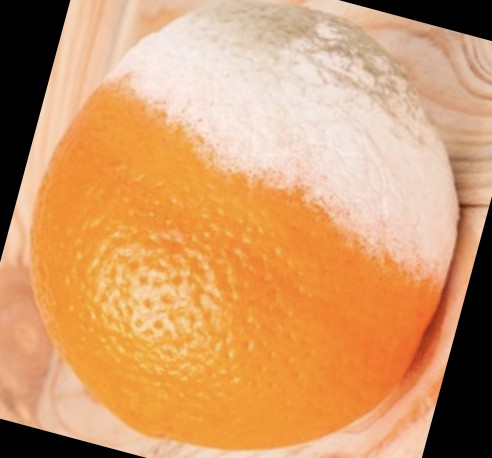rotten_orange: (31, 1, 461, 449)
